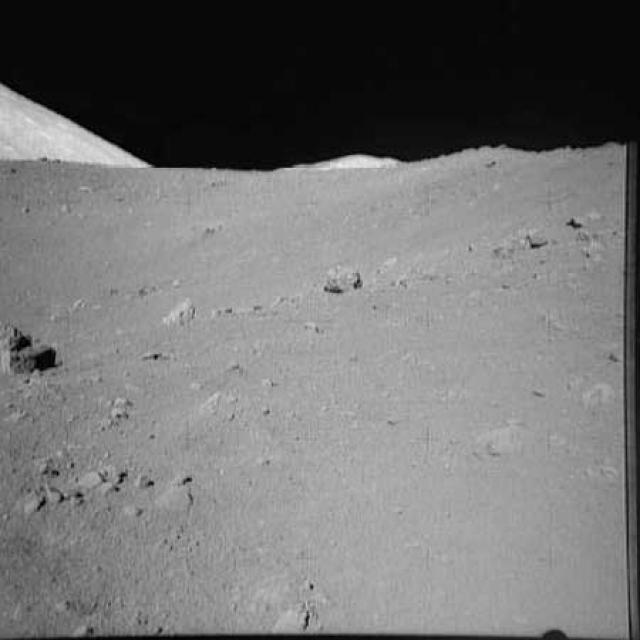rock: (0, 314, 67, 384), (150, 289, 202, 333), (317, 260, 374, 298), (552, 201, 610, 236)
